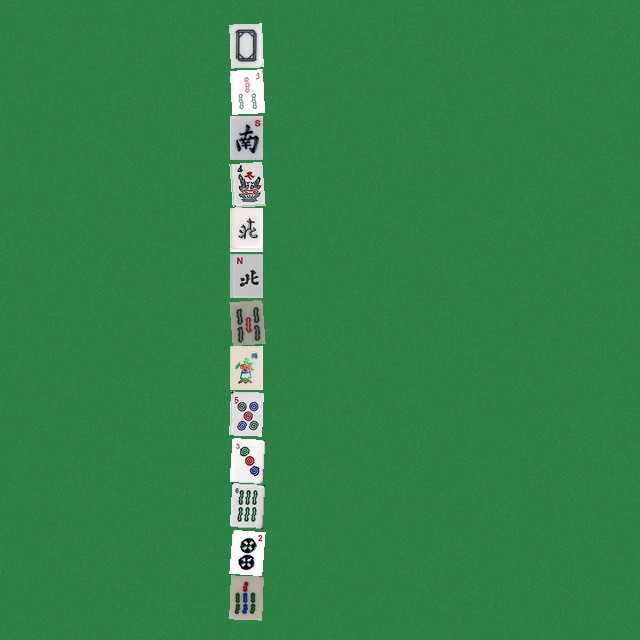tile: (229, 23, 262, 67), (229, 69, 262, 113), (229, 115, 262, 159), (229, 161, 262, 205), (229, 207, 262, 251), (229, 253, 262, 297), (229, 299, 262, 343), (229, 345, 262, 389), (229, 391, 262, 435), (229, 437, 262, 481), (229, 483, 262, 527), (229, 529, 262, 573), (229, 575, 262, 619)
